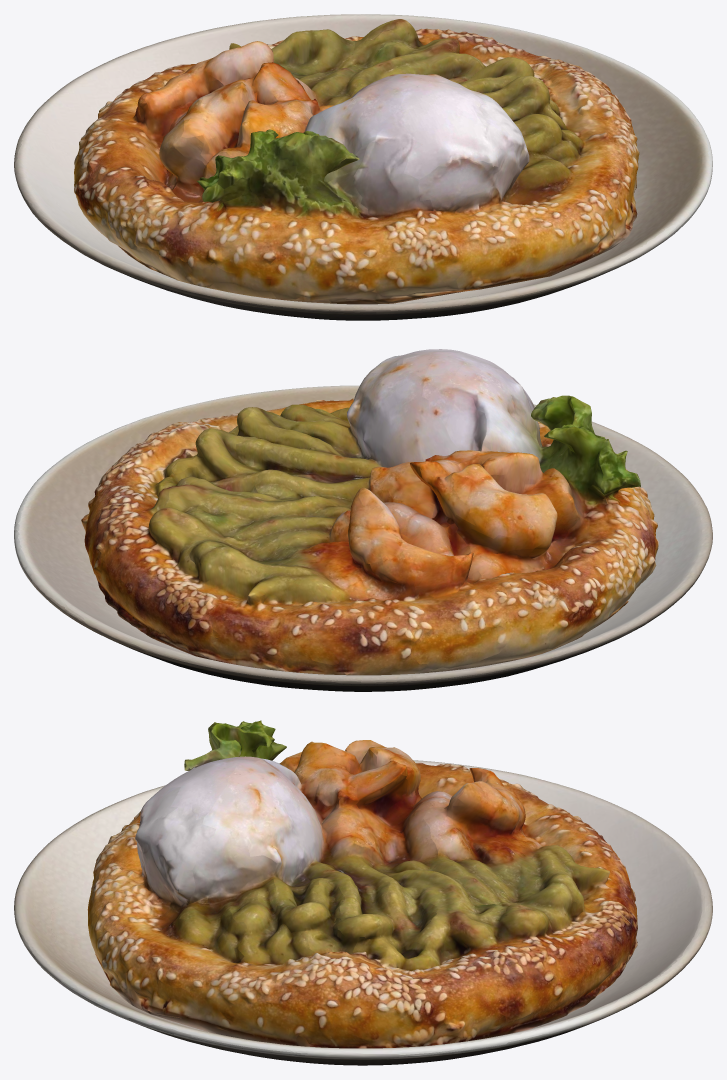
Rendered from set.shrimp.001.glb.
3 views of the same model, one above another, from view 1: azimuth 30°, elevation 25°; view 2: azimuth 150°, elevation 25°; view 3: azimuth 270°, elevation 25° (orthographic).
Parts seen in each view (by area): view 1: /Root/Scenes/Scene/Object_37/Object_38/Submesh_0, /Root/Scenes/Scene/Object_37/Object_39/Object_40/Submesh_0; view 2: /Root/Scenes/Scene/Object_37/Object_38/Submesh_0, /Root/Scenes/Scene/Object_37/Object_39/Object_40/Submesh_0; view 3: /Root/Scenes/Scene/Object_37/Object_38/Submesh_0, /Root/Scenes/Scene/Object_37/Object_39/Object_40/Submesh_0.
Boxes of the visible parts, x1=… form: /Root/Scenes/Scene/Object_37/Object_38/Submesh_0: x1=74, y1=19, x2=639, y2=304; /Root/Scenes/Scene/Object_37/Object_39/Object_40/Submesh_0: x1=14, y1=14, x2=712, y2=320; /Root/Scenes/Scene/Object_37/Object_38/Submesh_0: x1=81, y1=349, x2=658, y2=675; /Root/Scenes/Scene/Object_37/Object_39/Object_40/Submesh_0: x1=14, y1=385, x2=712, y2=691; /Root/Scenes/Scene/Object_37/Object_38/Submesh_0: x1=87, y1=720, x2=637, y2=1048; /Root/Scenes/Scene/Object_37/Object_39/Object_40/Submesh_0: x1=14, y1=760, x2=712, y2=1065.
Bounding box in the file's own units: 0.2301 × 0.0674 × 0.2301.
2 materials, 2 textured.
